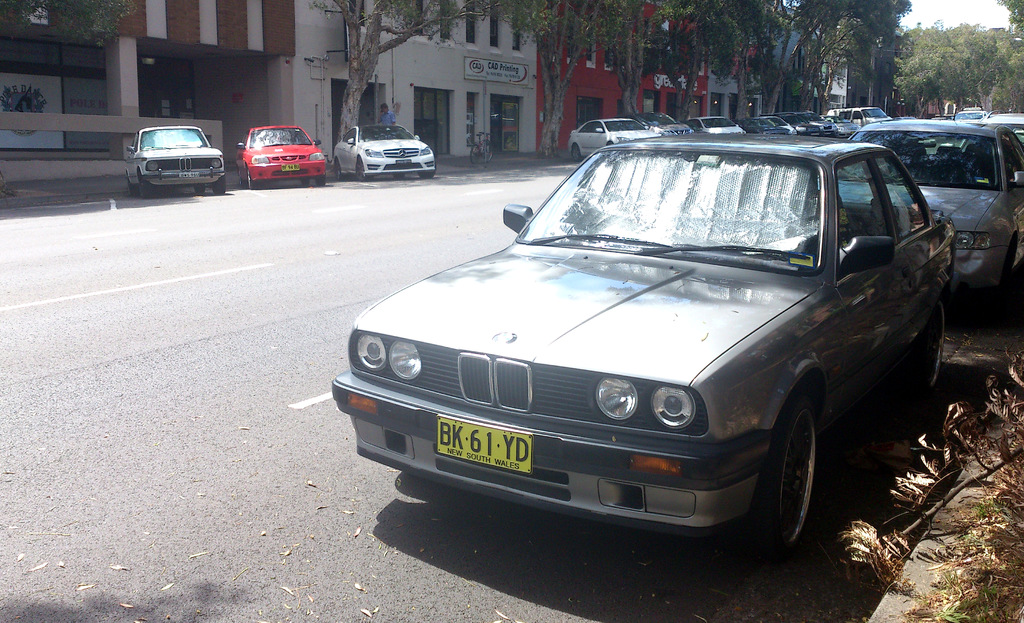Car: (325, 114, 921, 557), (794, 80, 1023, 293), (564, 110, 858, 163), (124, 124, 227, 198), (330, 122, 437, 179), (233, 123, 325, 186), (960, 109, 1023, 155), (952, 109, 986, 137)
